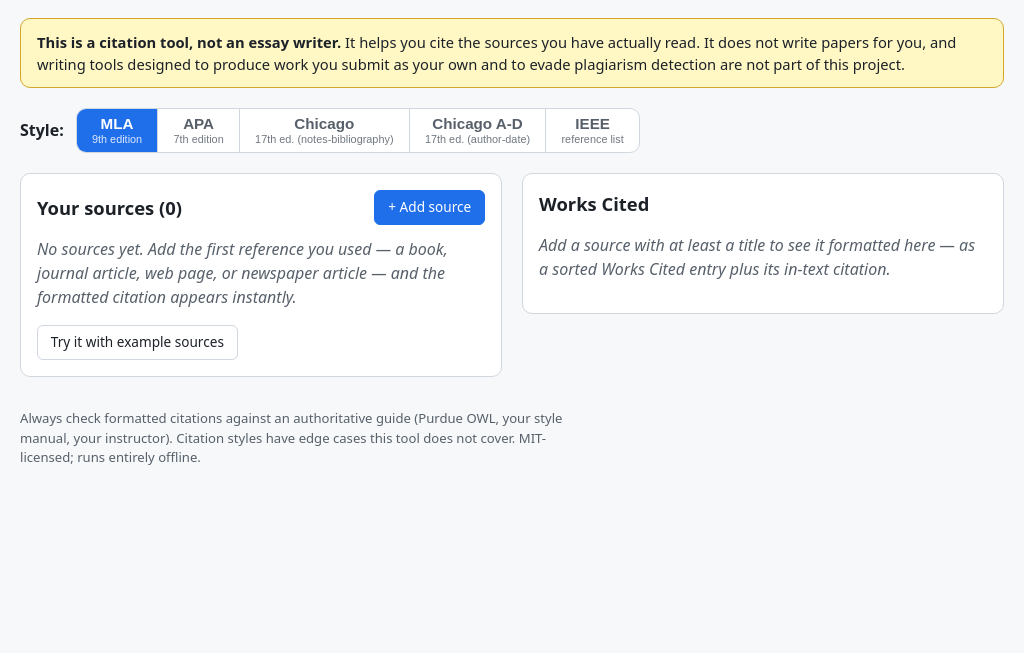
Scenario: App › numbers IEEE in-text citations by sorted list position
Click the button "Try it with example sources" at point(137, 342), box top-left (37, 325), bottom-right (238, 360)
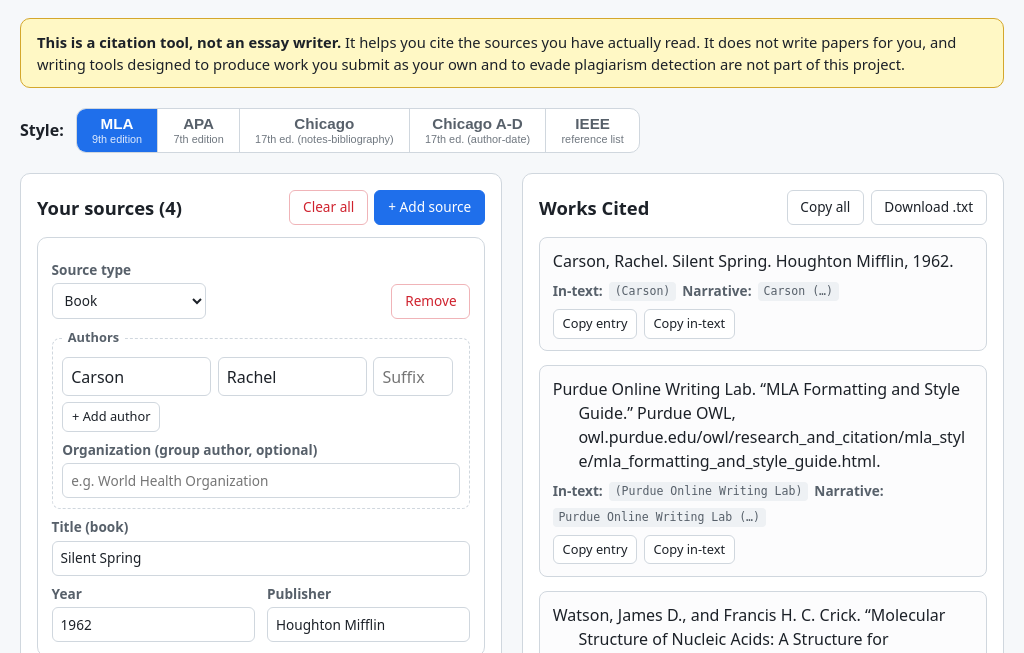
Click the radio button labelled "IEEE reference list" at point(593, 130), box top-left (546, 109), bottom-right (639, 152)
(page scrolled)
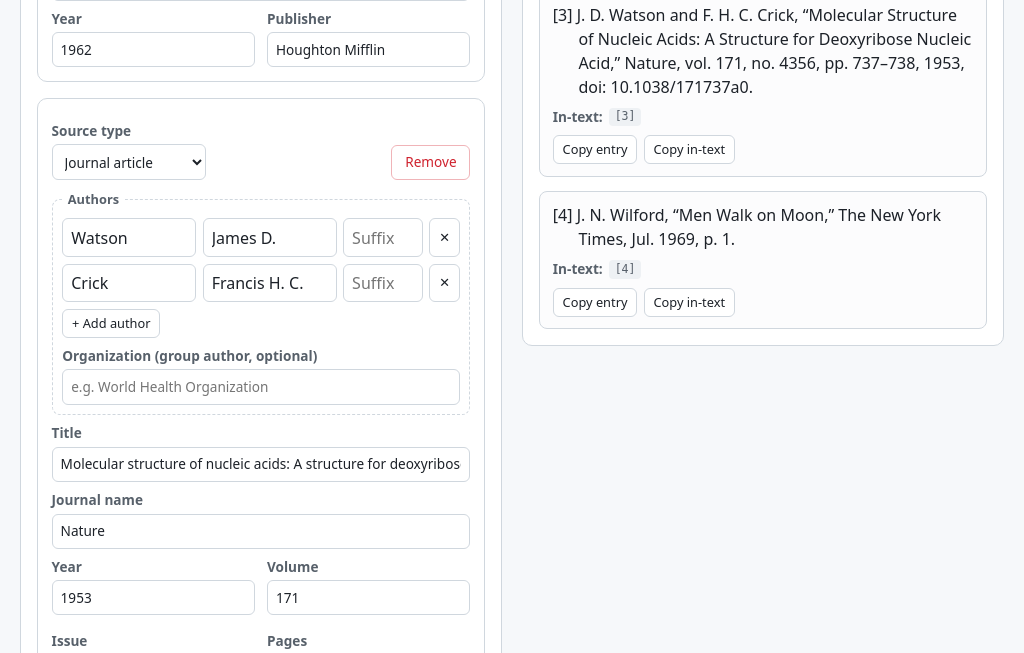
Now the text "[4]" is shown, box top-left (609, 260), bottom-right (641, 279)
